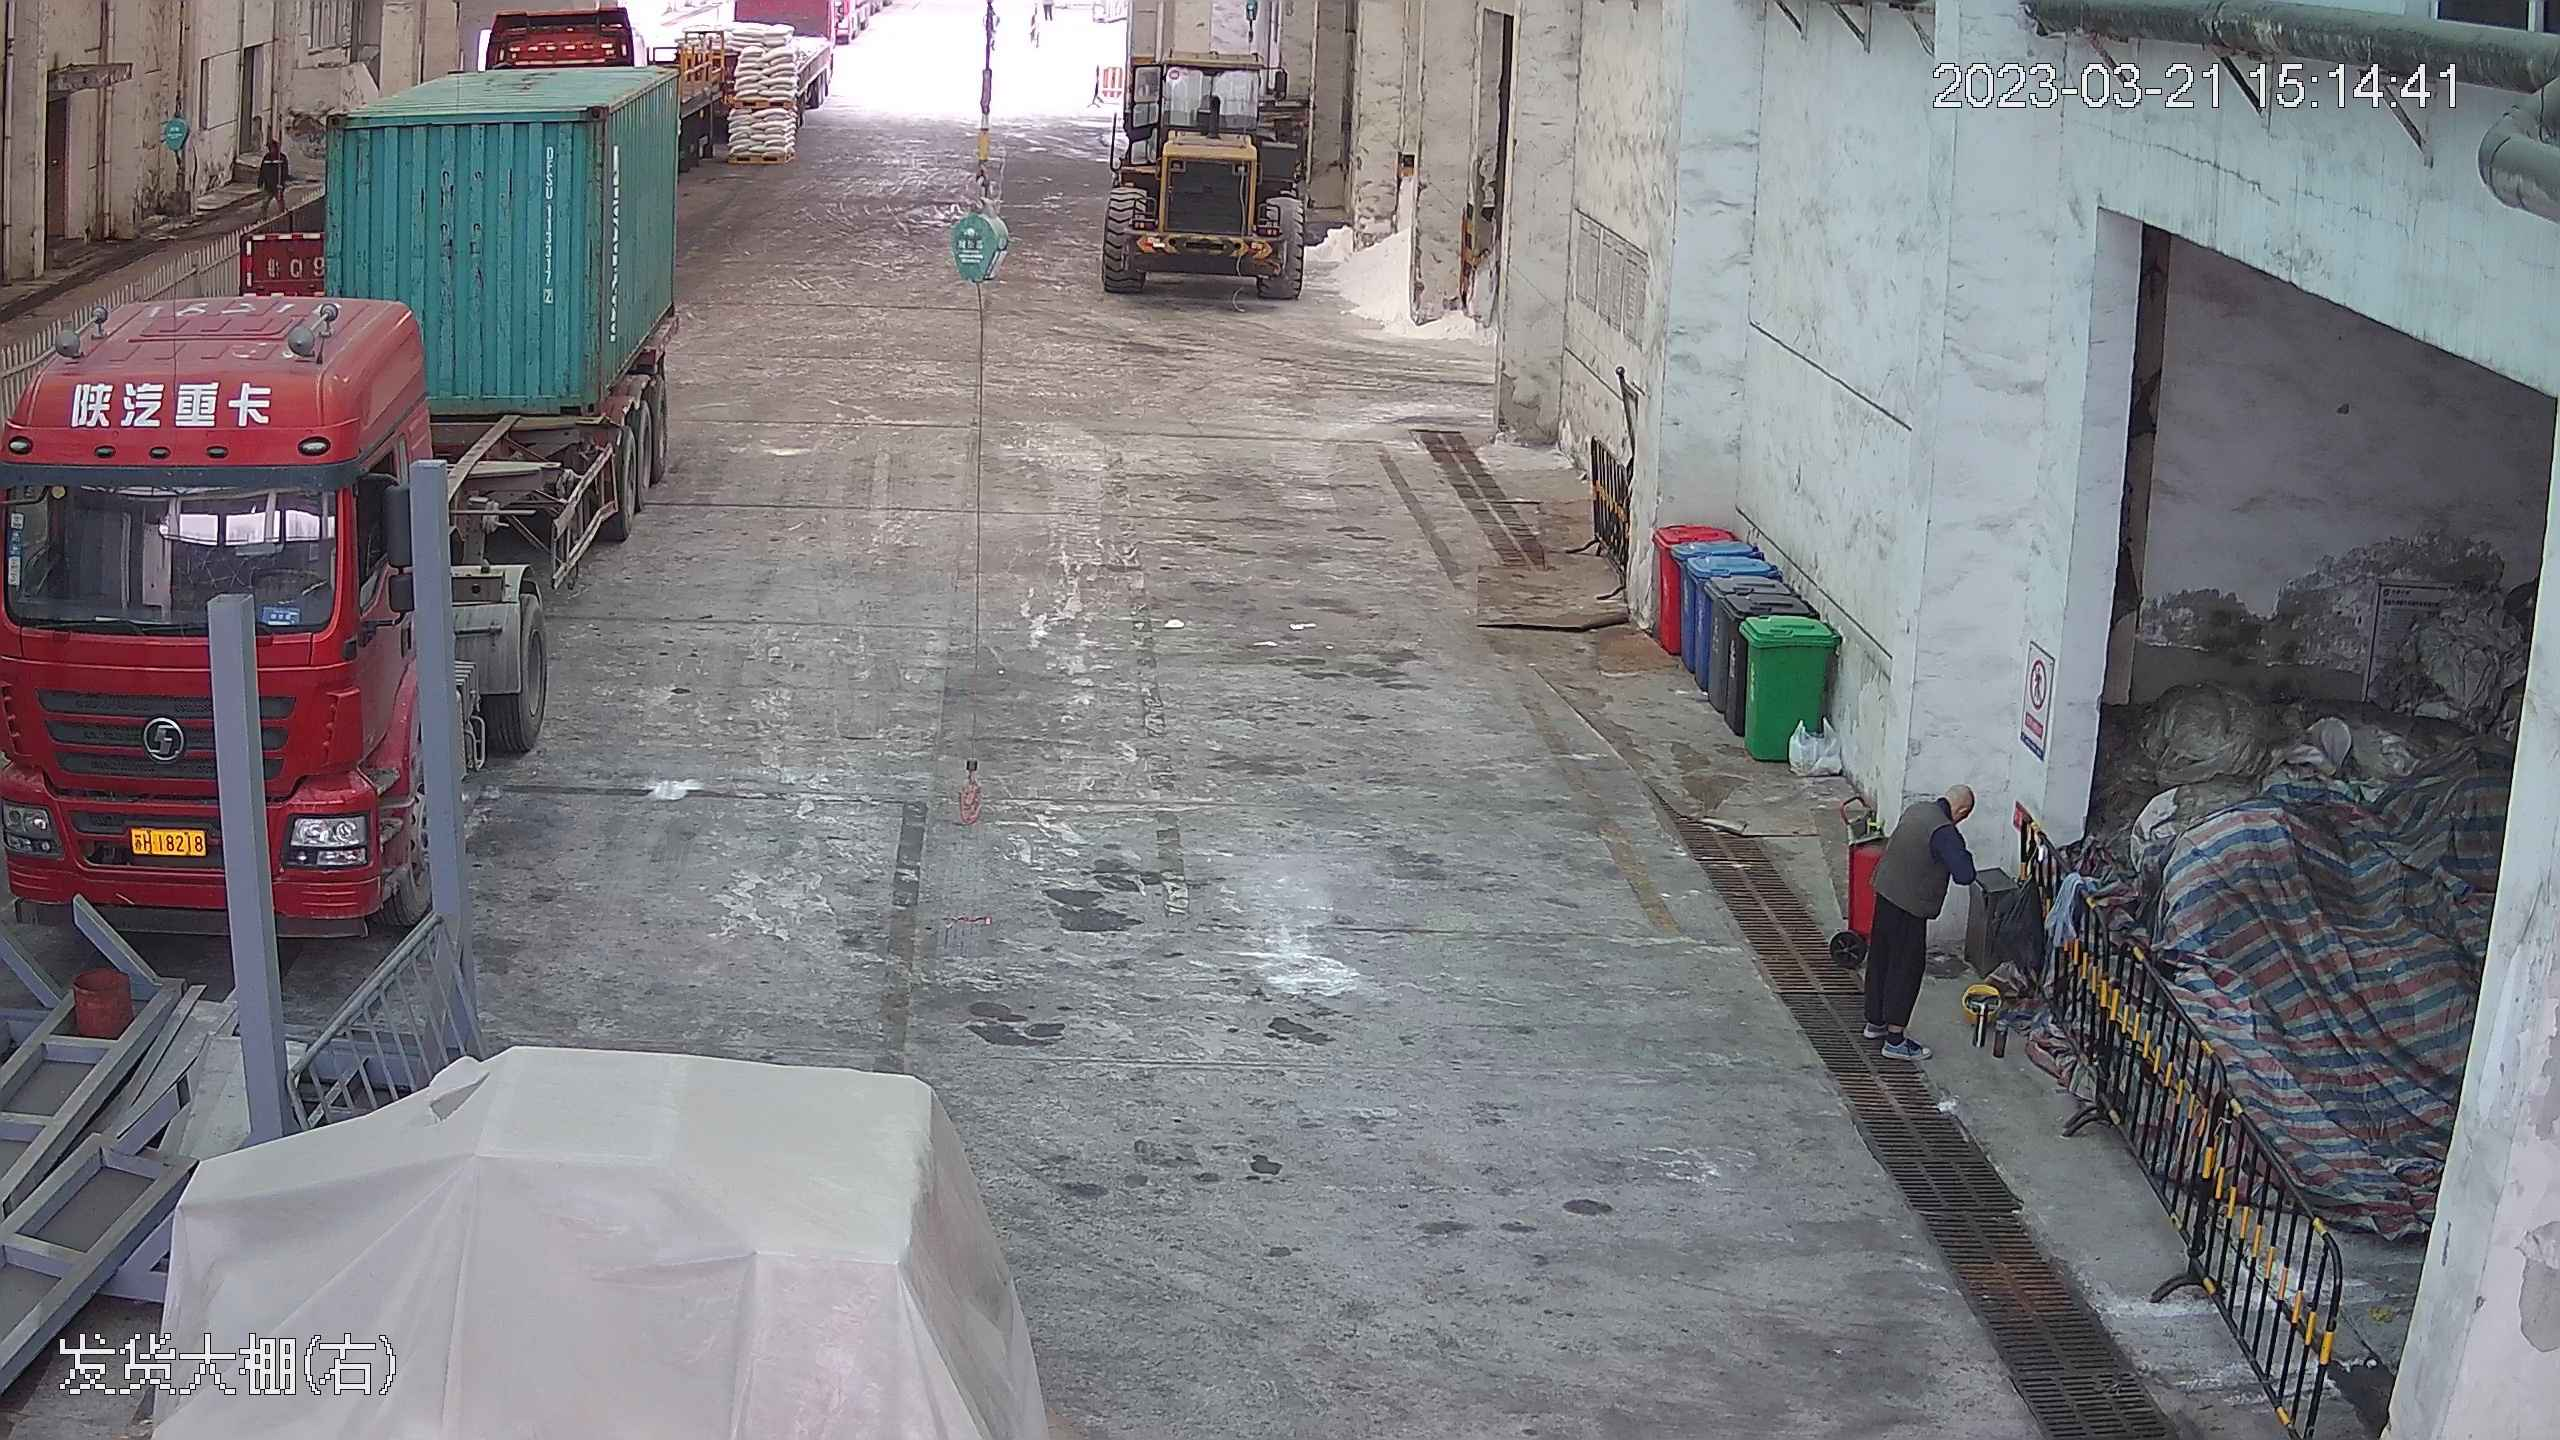head: (1891, 780, 1975, 865)
people: (1853, 779, 1979, 1060)
truck: (3, 18, 689, 949)
